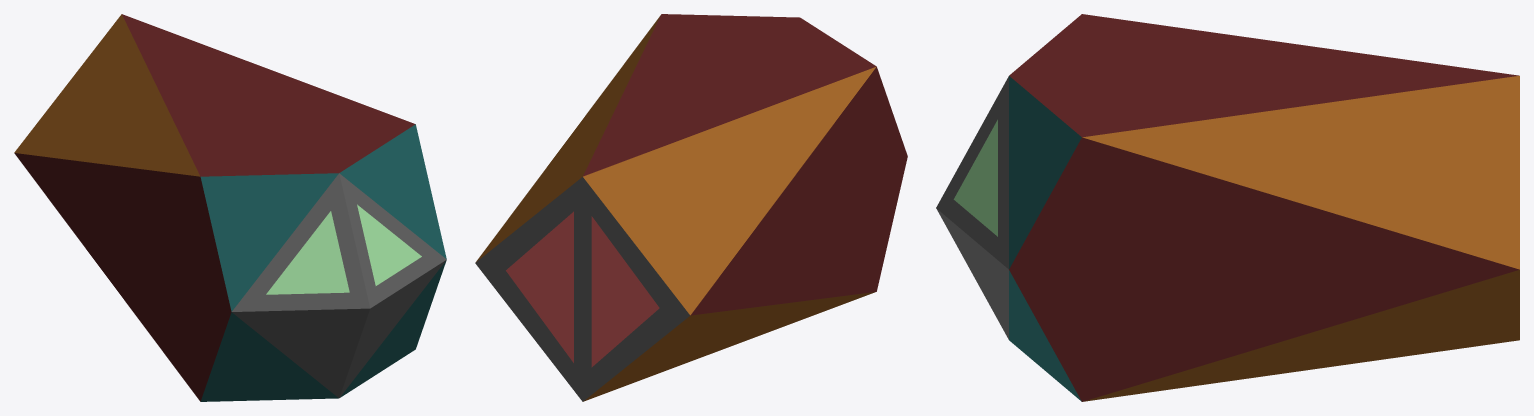
Rendered from arc_shuttle.glb.
The picture shows the model from 3 angles, left to right: view 1: azimuth 30°, elevation 25°; view 2: azimuth 150°, elevation 25°; view 3: azimuth 270°, elevation 25°; orthographic projection. The views are drawn at different scales.
Visible parts, largest first — view 1: griff_arcelite_shuttlev; view 2: griff_arcelite_shuttlev, griff_arcelite_shuttlev.002, griff_arcelite_shuttlev.001; view 3: griff_arcelite_shuttlev.
Boxes of the visible parts, <box> form: griff_arcelite_shuttlev: <box>14,14,446,401</box>; griff_arcelite_shuttlev: <box>475,14,907,401</box>; griff_arcelite_shuttlev.002: <box>591,216,659,367</box>; griff_arcelite_shuttlev.001: <box>506,211,573,362</box>; griff_arcelite_shuttlev: <box>936,14,1519,401</box>.
Bounding box in the file's own units: 0.2554 × 0.2554 × 0.5107.
Materials: 1 (1 with a texture image).
